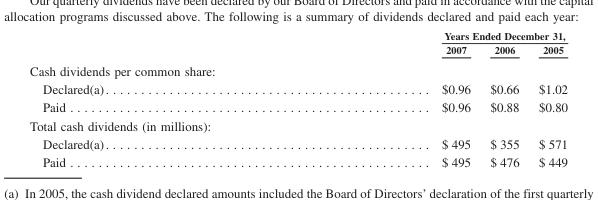table: (29, 29, 567, 168)
table column: (29, 29, 274, 168), (274, 29, 479, 168), (479, 29, 528, 168), (528, 29, 567, 168)
table column header: (29, 29, 567, 59)
table projected row header: (29, 59, 567, 79), (29, 116, 567, 134)
table row: (29, 59, 567, 79), (29, 79, 567, 98), (29, 98, 567, 116), (29, 116, 567, 134), (29, 134, 567, 152), (29, 42, 567, 59), (29, 152, 567, 168), (29, 29, 567, 42)
table spanning cell: (274, 29, 567, 42)
